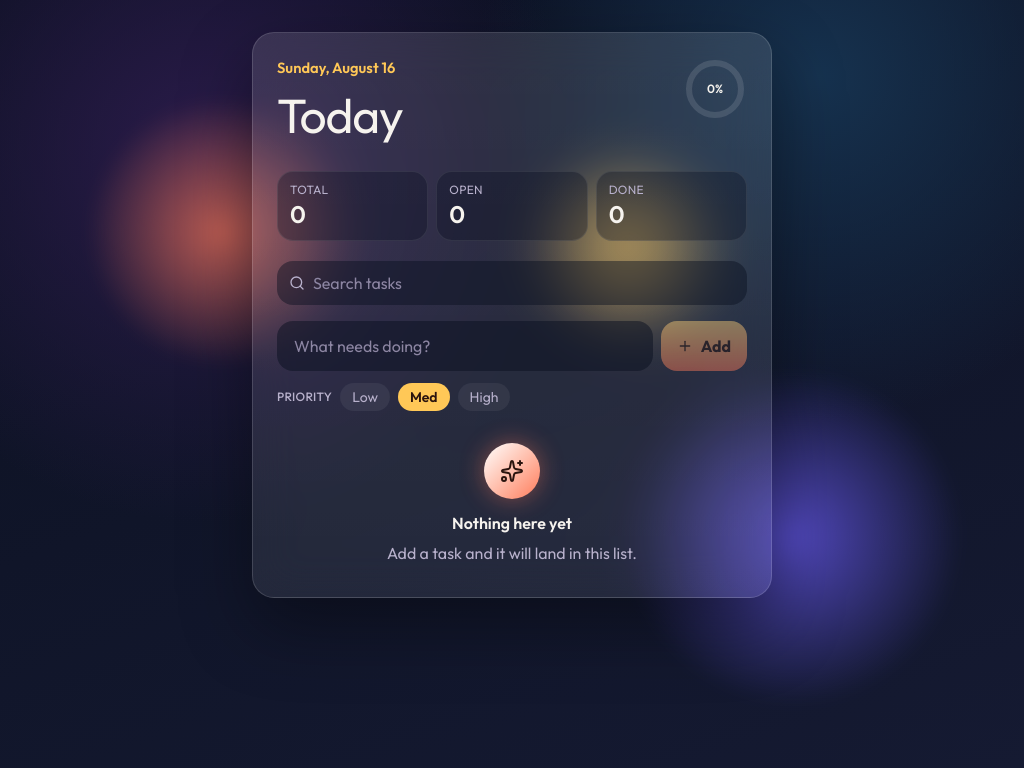
Test: asks for confirmation before deleting a todo
Type "Write tests" into the field with placeholder "What needs doing?" at (465, 346), box [277,321,653,371]
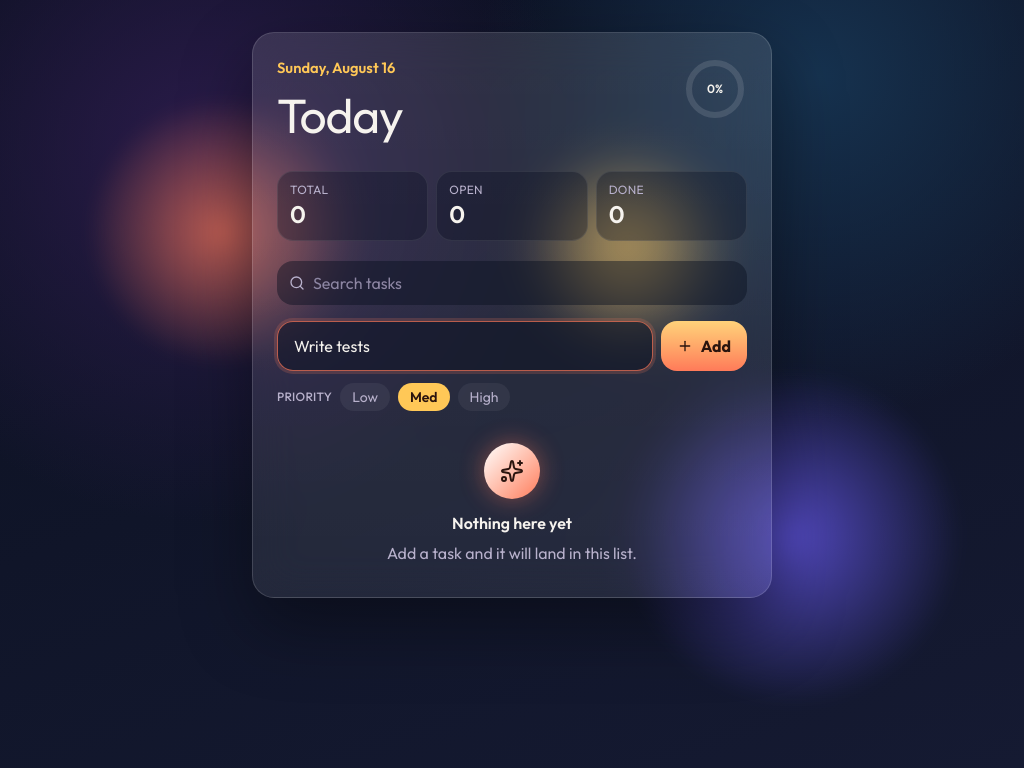
Click the button "Add" at (704, 346), box [661,321,747,371]
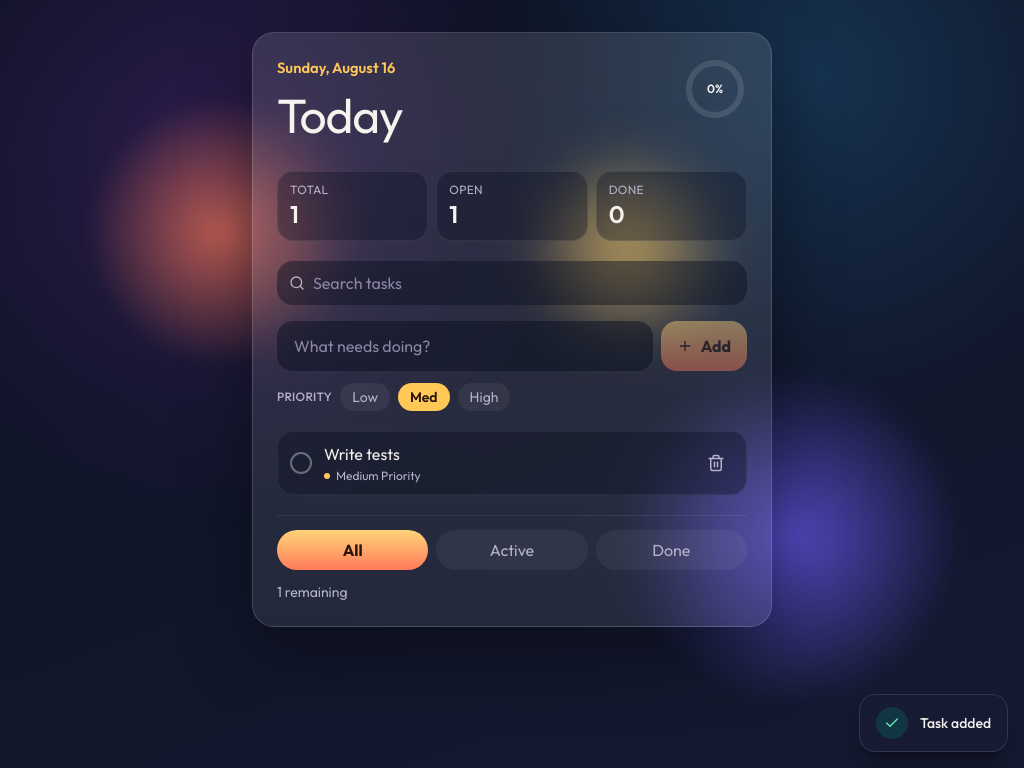
Click the checkbox named "write tests" at (301, 463), box [290,452,312,474]
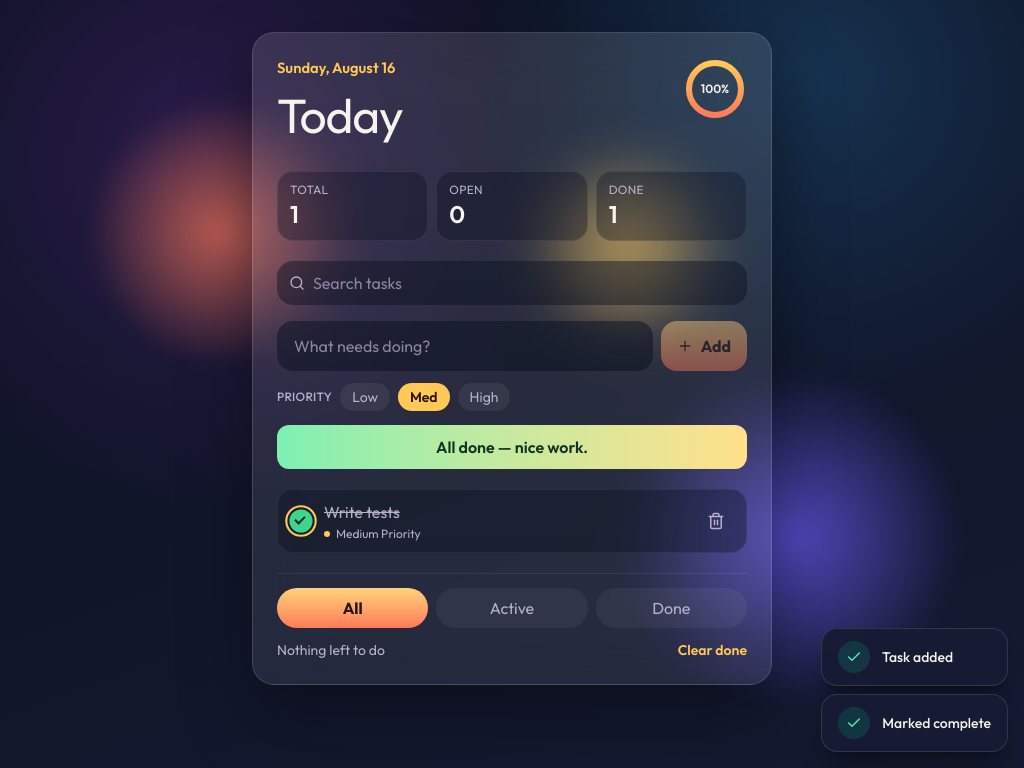
Check: the checkbox named "write tests" is checked, box [290,510,312,532]
Check: the text "All done — nice work." is shown, box [277,425,747,469]
Click the button named "delete write tests" at (716, 521), box [698,503,734,539]
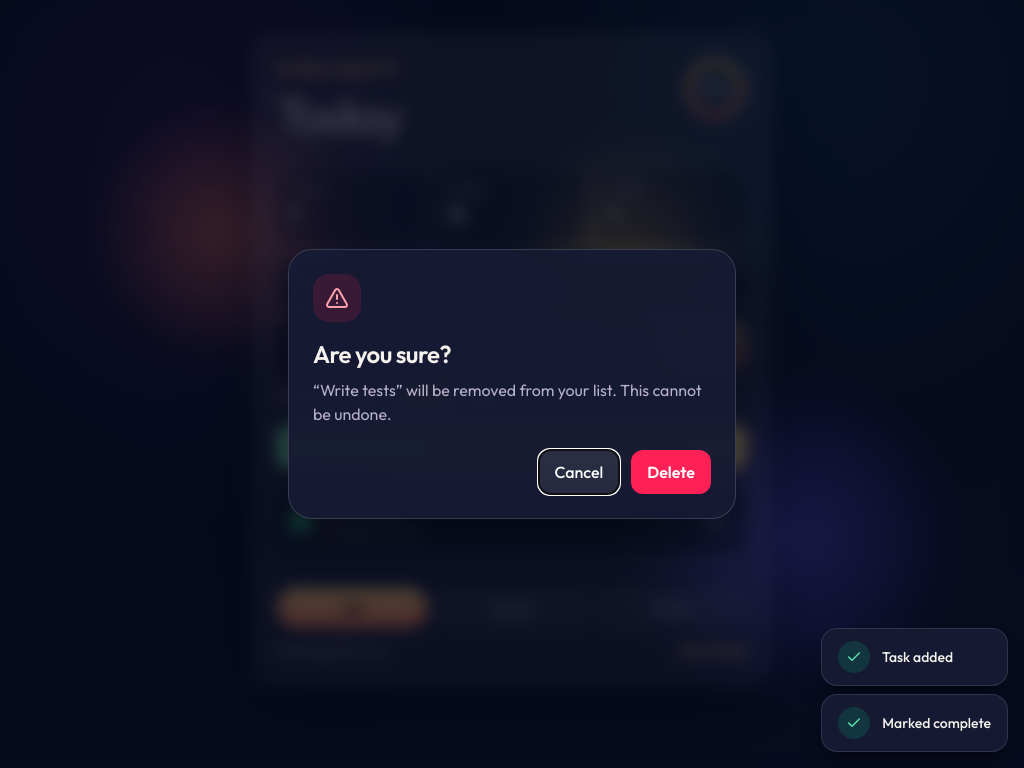
Check: the field showing "Write tests" is shown, box [324,500,686,524]
Check: the dialog "Are you sure" is shown, box [288,249,736,519]
Click the button "Delete" at (671, 472), box [631,450,711,494]
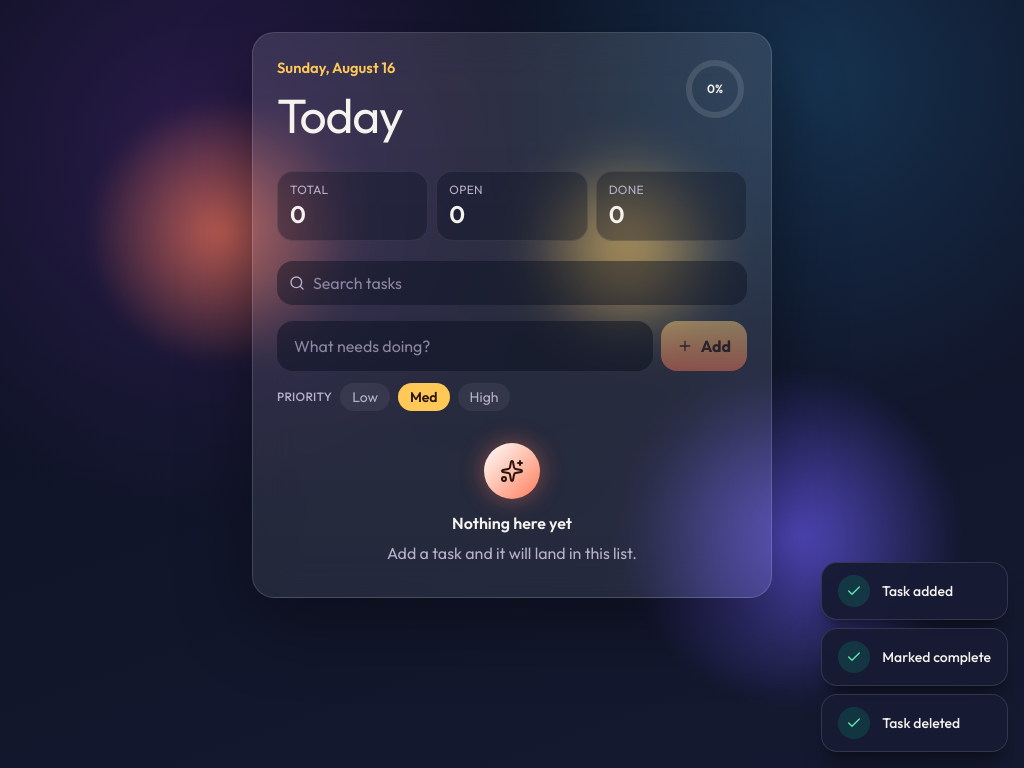
Check: the text showing "Write tests" is gone
